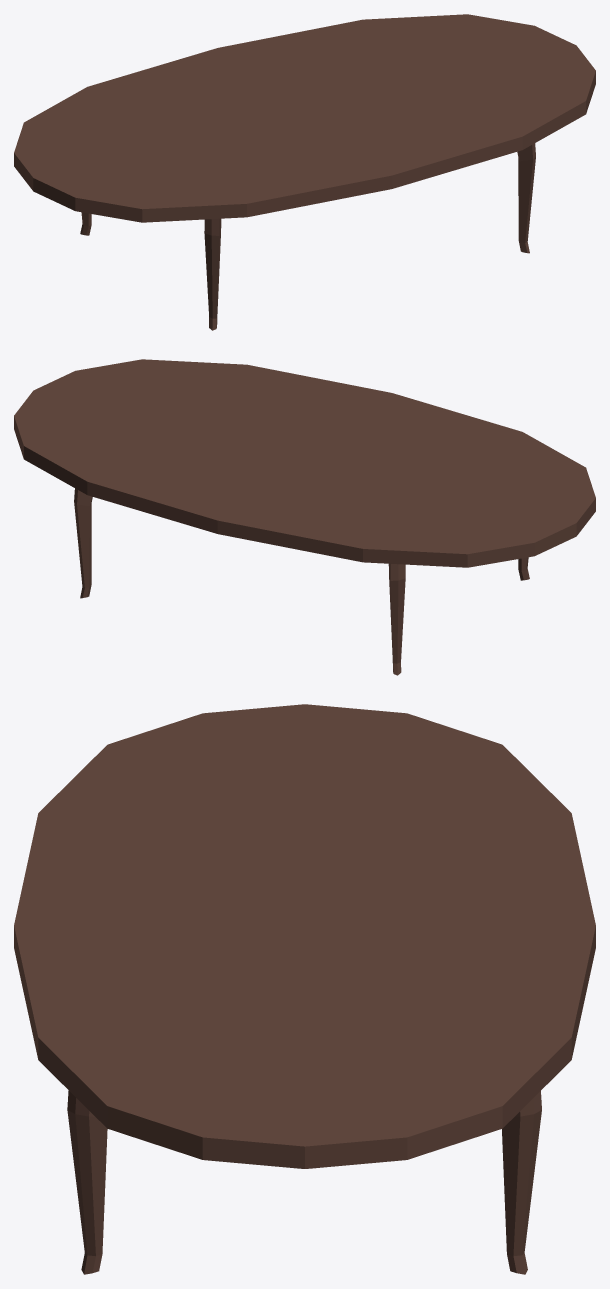
The model's file is Table01.glb.
3 renders of one model, top to bottom at view 1: azimuth 30°, elevation 25°; view 2: azimuth 150°, elevation 25°; view 3: azimuth 270°, elevation 25°, orthographic. The views are drawn at different scales.
Visible parts, largest first — view 1: Table01; view 2: Table01; view 3: Table01.
Boxes of the visible parts, box(x1,y1,x2,y2) form: Table01: box(14, 14, 595, 330); Table01: box(14, 359, 595, 675); Table01: box(14, 704, 595, 1274).
Size of the model in its own units: 3.25 by 0.7543 by 1.81.
